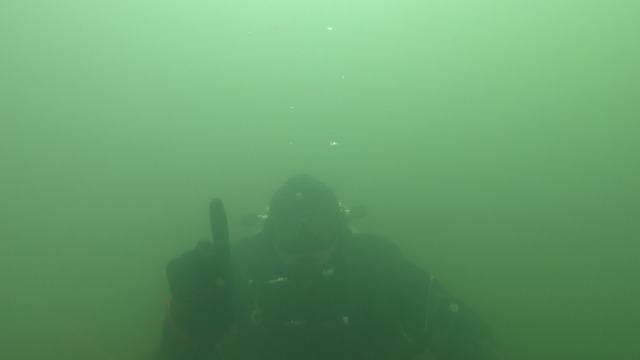Hand: (147, 196, 248, 328)
Head: (260, 170, 364, 310)
